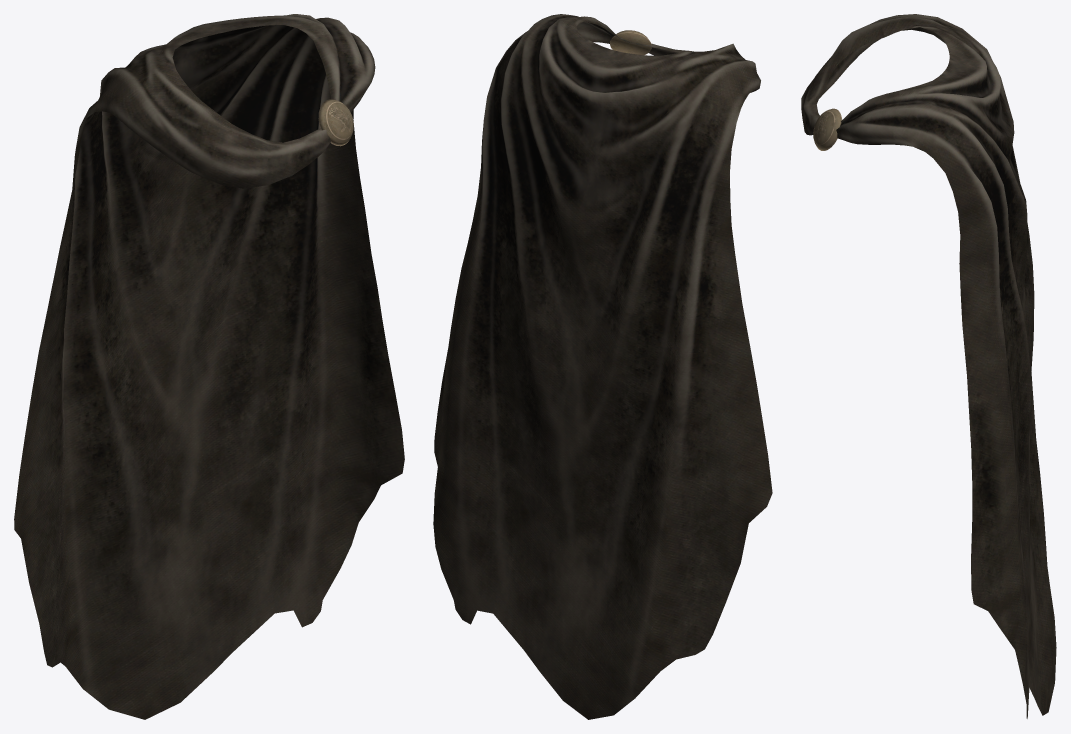
Rendered from dunland_wulf_cape_long_b.fbx.
3 renders of one model, left to right at view 1: azimuth 30°, elevation 25°; view 2: azimuth 150°, elevation 25°; view 3: azimuth 270°, elevation 25°, orthographic. The views are drawn at different scales.
Parts seen in each view (by area): view 1: dunland_wulf_cape_long_b; view 2: dunland_wulf_cape_long_b; view 3: dunland_wulf_cape_long_b.
Part boxes in pixels (<box>): dunland_wulf_cape_long_b: <box>14,14,404,719</box>; dunland_wulf_cape_long_b: <box>433,14,772,719</box>; dunland_wulf_cape_long_b: <box>801,14,1056,718</box>.
Bounding box in the file's own units: 0.7038 × 0.4345 × 1.25.
1 material, 1 textured.
